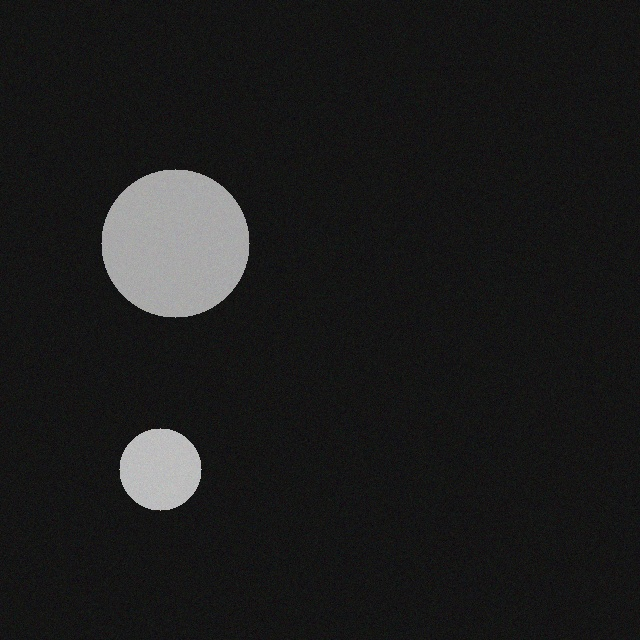circle: (97, 164, 245, 312), (115, 423, 197, 505)
